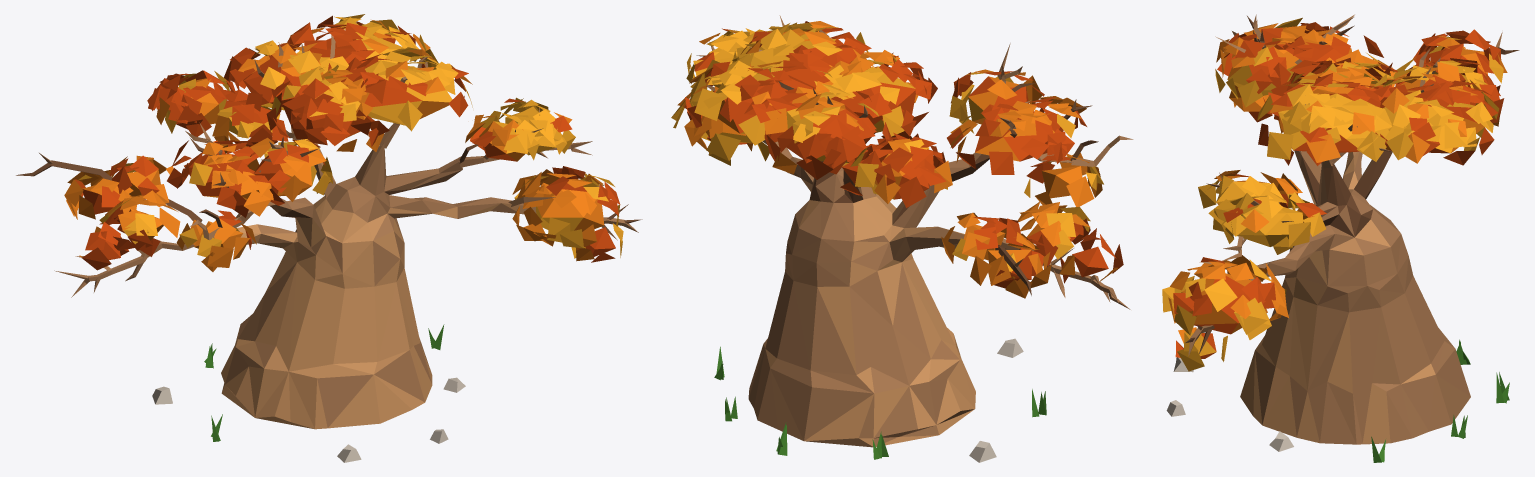
Rendered from baobab_autumn.glb.
The picture shows the model from 3 angles, left to right: view 1: azimuth 30°, elevation 25°; view 2: azimuth 150°, elevation 25°; view 3: azimuth 270°, elevation 25°; orthographic projection. The views are drawn at different scales.
Parts seen in each view (by area): view 1: baobab_autumn; view 2: baobab_autumn; view 3: baobab_autumn.
Part boxes in pixels (box(x1,y1,x2,y2)): baobab_autumn: box(16, 14, 642, 462); baobab_autumn: box(671, 15, 1133, 462); baobab_autumn: box(1162, 14, 1519, 462).
Bounding box in the file's own units: 9.48 × 5.9 × 5.58.
